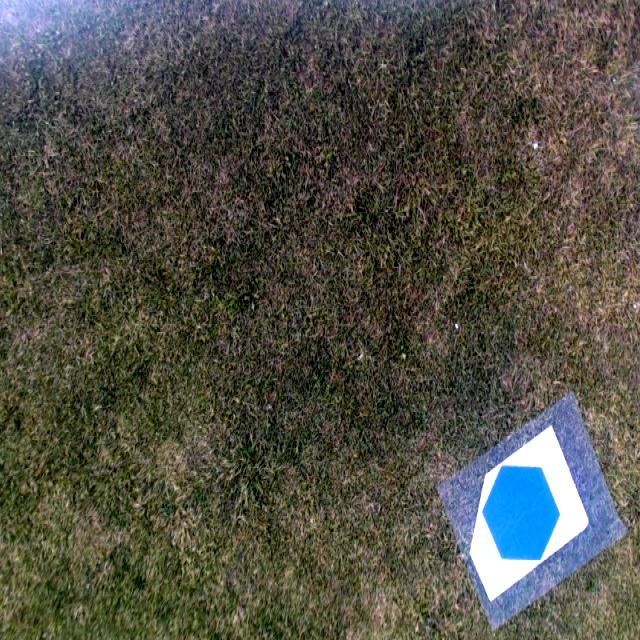blue_hexagon: (483, 462, 562, 562)
